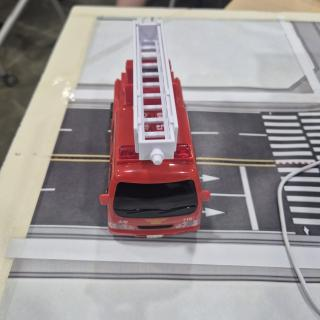Fire_truck: (100, 19, 210, 238)
